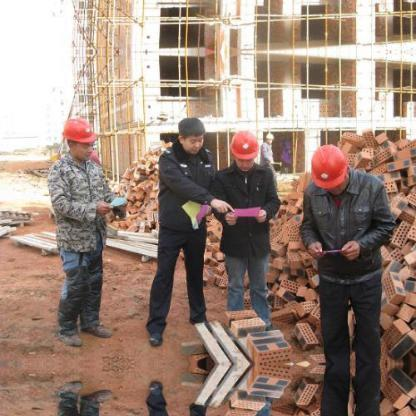helmet: (304, 143, 351, 192), (59, 118, 101, 147), (227, 129, 262, 163)
